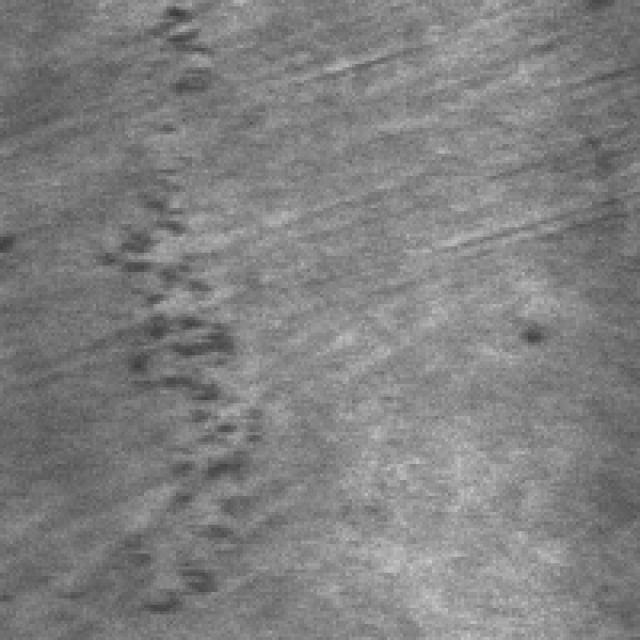rolled-in_scale: (77, 86, 272, 637), (105, 0, 220, 246)
